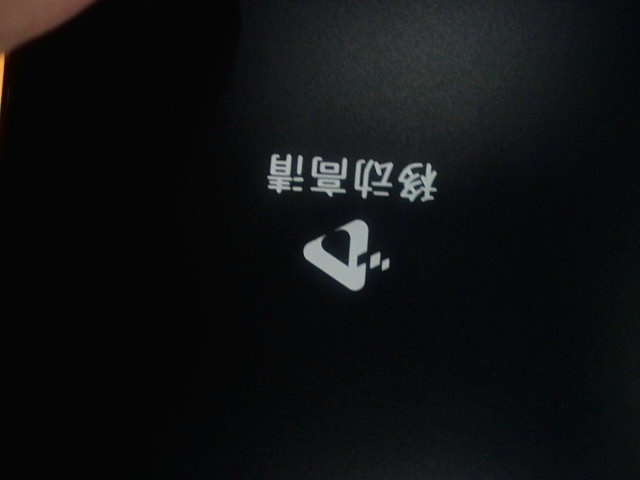AO_MobileHD: (242, 138, 470, 304)
